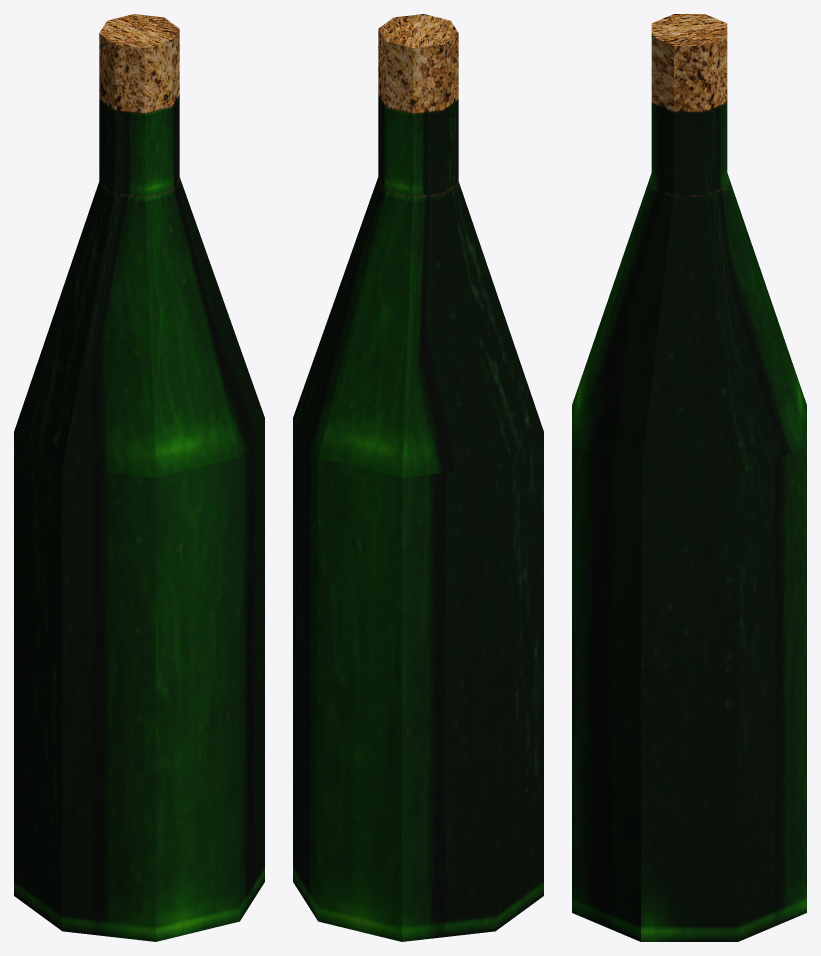
The model's file is mm9_deco_winebottle.glb.
3 views of the same model, side by side, from view 1: azimuth 30°, elevation 25°; view 2: azimuth 150°, elevation 25°; view 3: azimuth 270°, elevation 25° (orthographic).
Parts seen in each view (by area): view 1: Winebottle; view 2: Winebottle; view 3: Winebottle.
Boxes of the visible parts, x1,y1,x2,y2 form: Winebottle: [14, 14, 264, 941]; Winebottle: [293, 14, 543, 941]; Winebottle: [572, 14, 806, 941].
Size of the model in its own units: 0.1306 by 0.5289 by 0.1306.
Materials: 1 (1 with a texture image).
